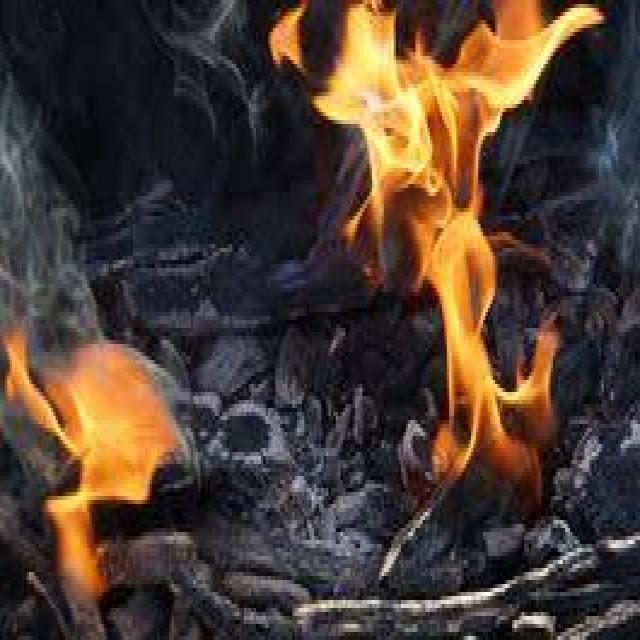Fire: (269, 0, 605, 508), (2, 332, 180, 594)
